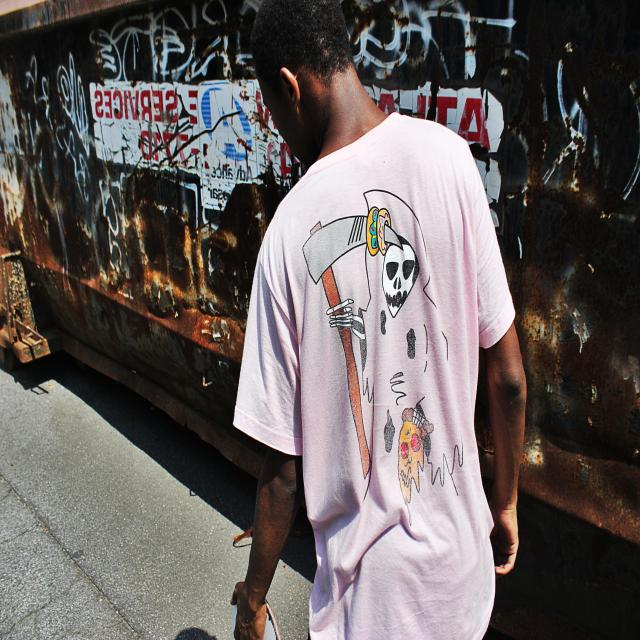adult: (234, 8, 530, 640)
